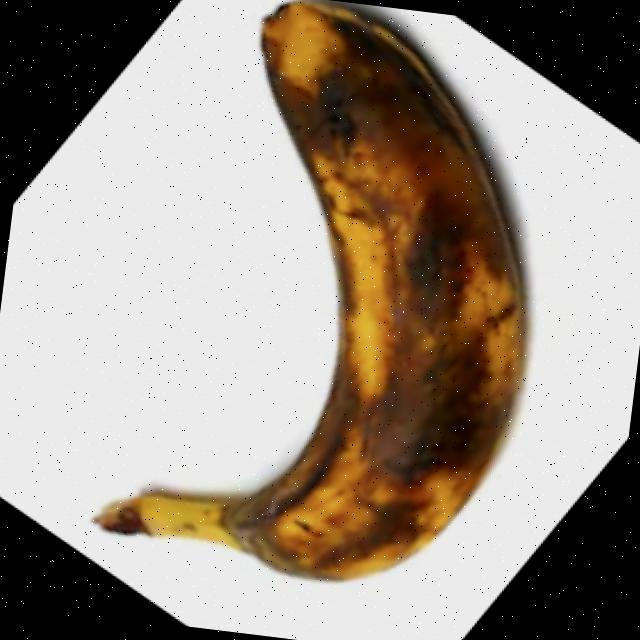overripe: (98, 0, 572, 607)
